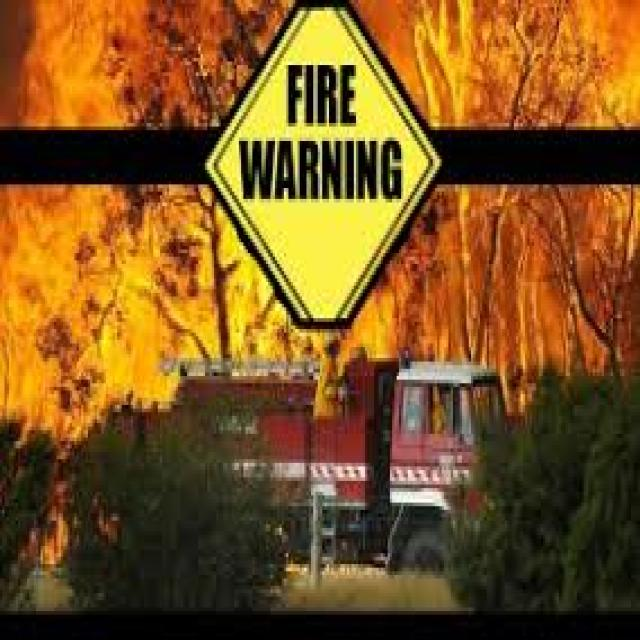Fire: (12, 6, 265, 420), (429, 0, 632, 369)
